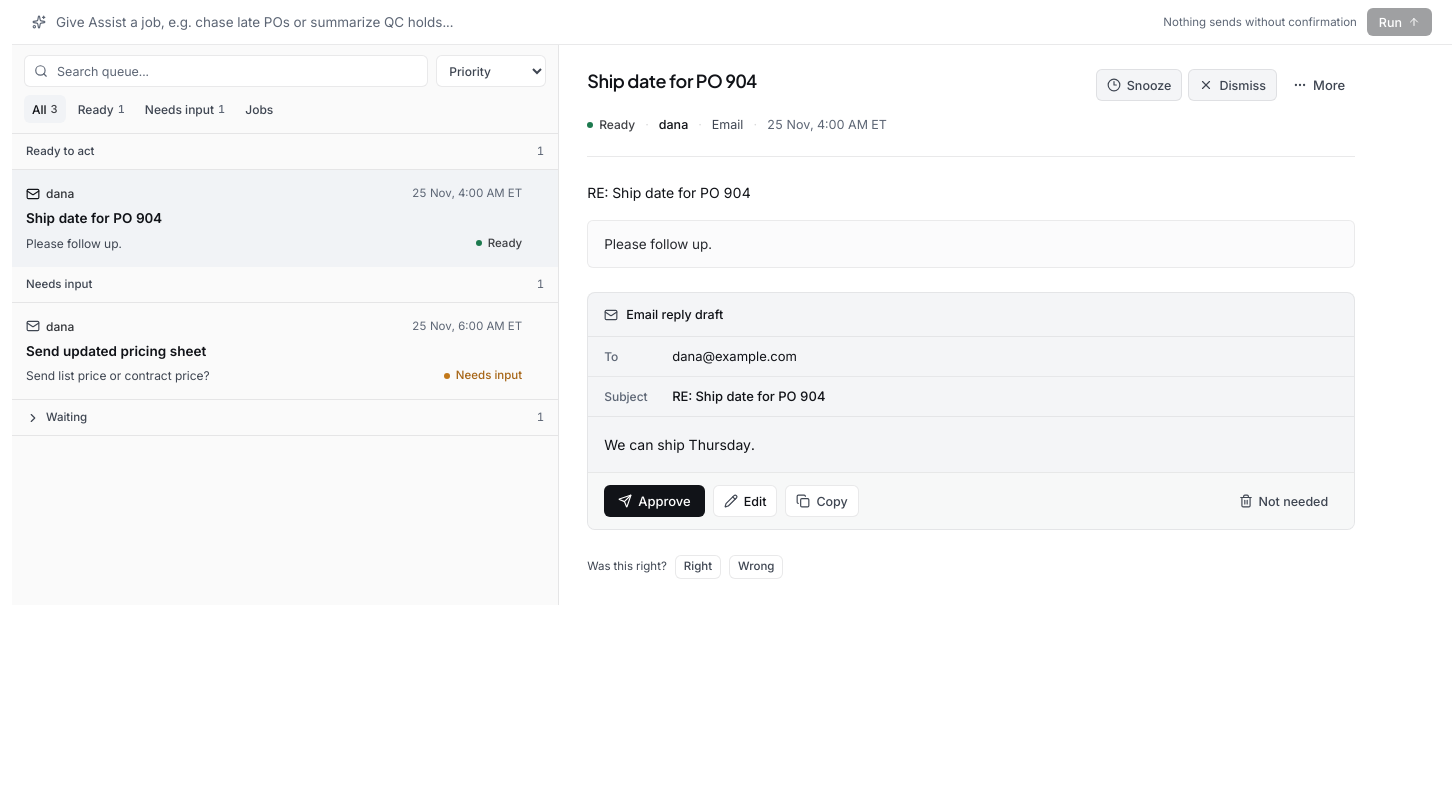
AssistWorkbench optimistic item actions › orders queue by priority sections (Ready to act, Needs input, collapsible Waiting) and supports sort and search
Expected: the element with test id "queue-section-ready" is shown, [12,134,558,267]
Expected: the element with test id "queue-section-input" is shown, [12,267,558,399]
Note: Expanding Waiting reveals the waiting row
Click the button "Waiting 1" at coordinates (67, 417), box [12,399,558,436]
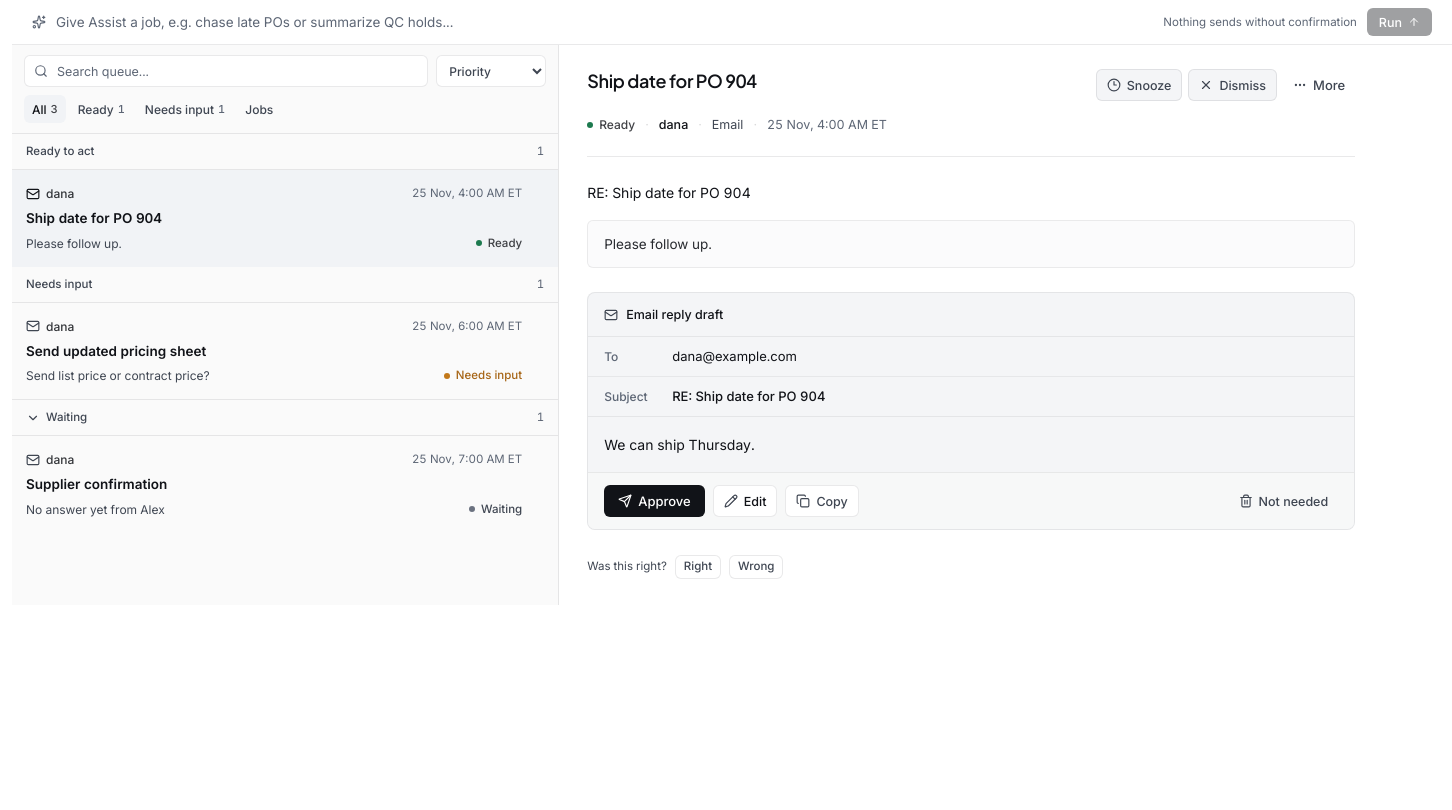
Now the number of buttons with test id "assist-queue-item" is 3, box [12,170,558,267]; [12,303,558,399]; [12,436,558,533]
Note: Switching sort to Newest orders chronologically without sections
Select "Newest" in the dropdown with test id "assist-queue-sort" at coordinates (491, 71), box [436,55,546,87]
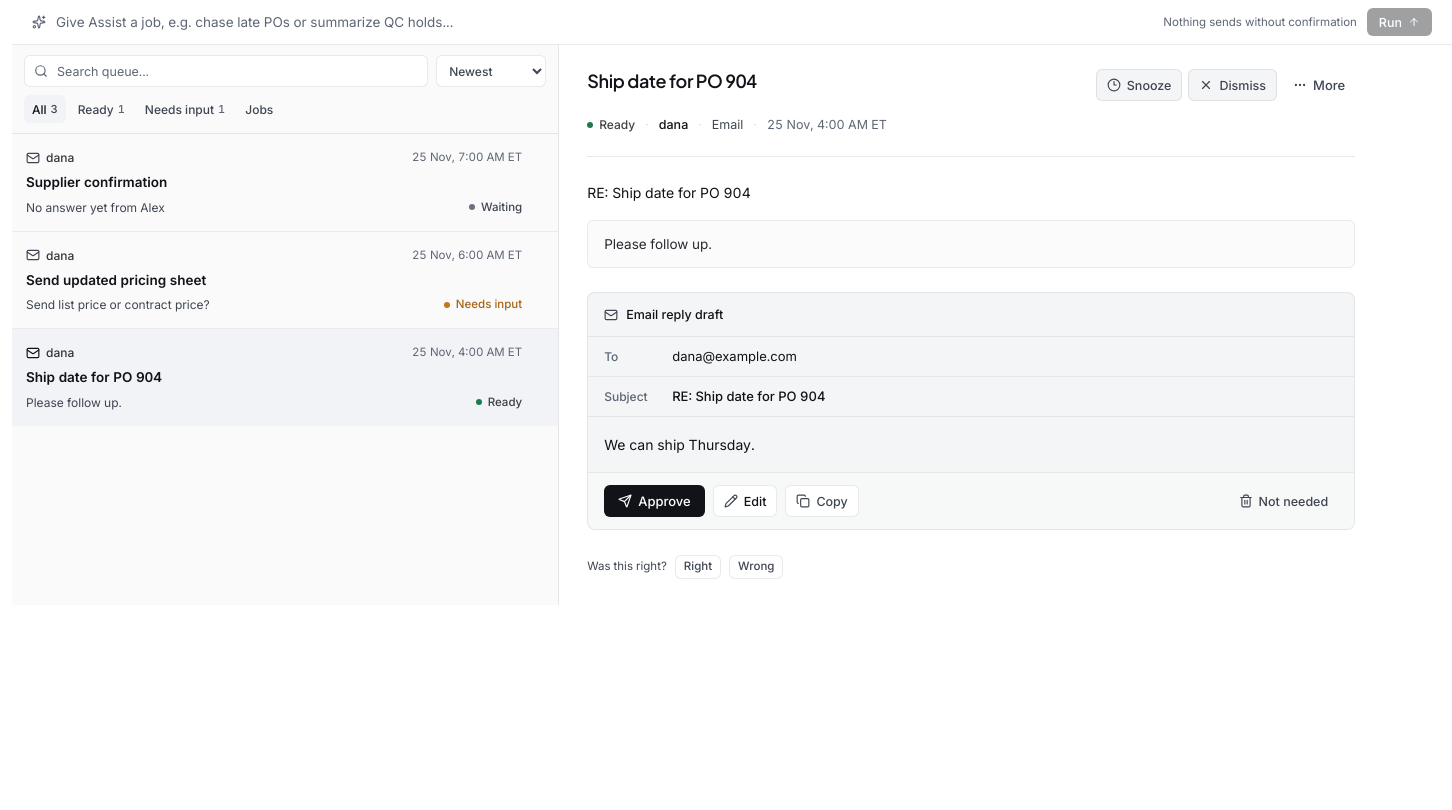
Now the button with test id "assist-queue-item" shows "Supplier confirmation", box [12,134,558,231]
